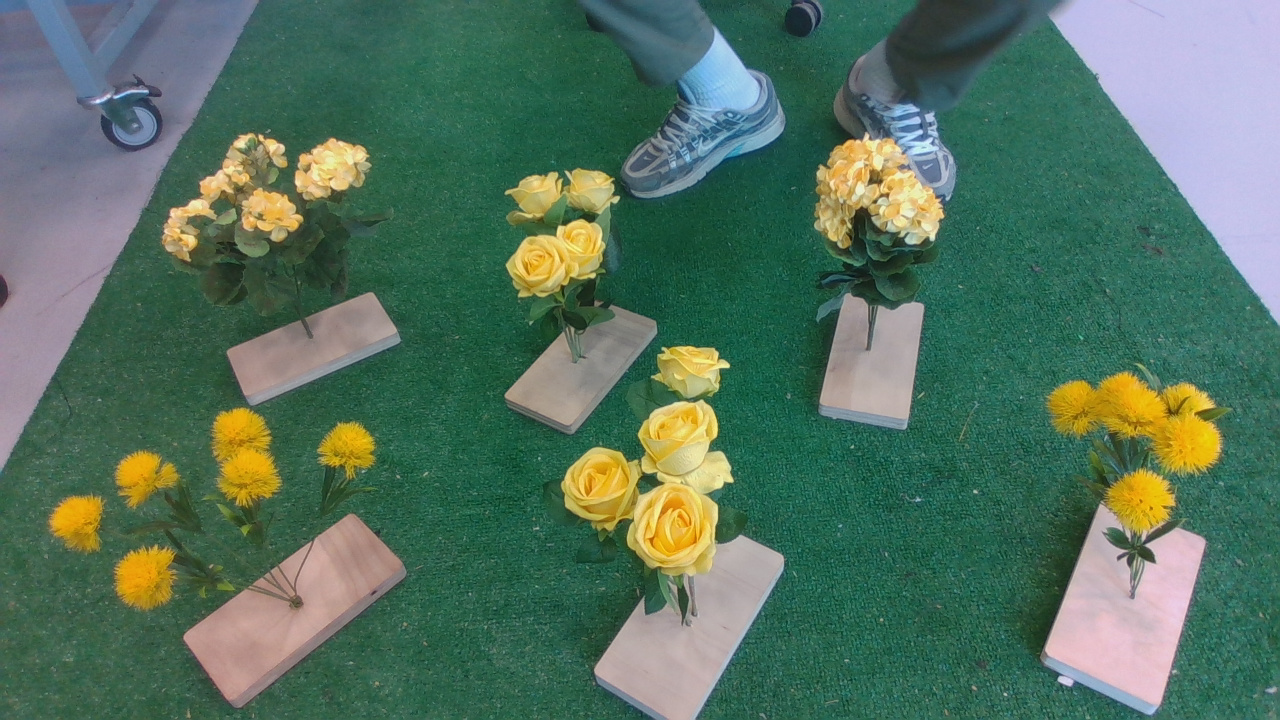dandelion: (44, 406, 391, 622), (1047, 355, 1242, 567)
geranium: (159, 131, 401, 322), (800, 137, 948, 323)
rose: (561, 343, 756, 583), (497, 164, 631, 329)
